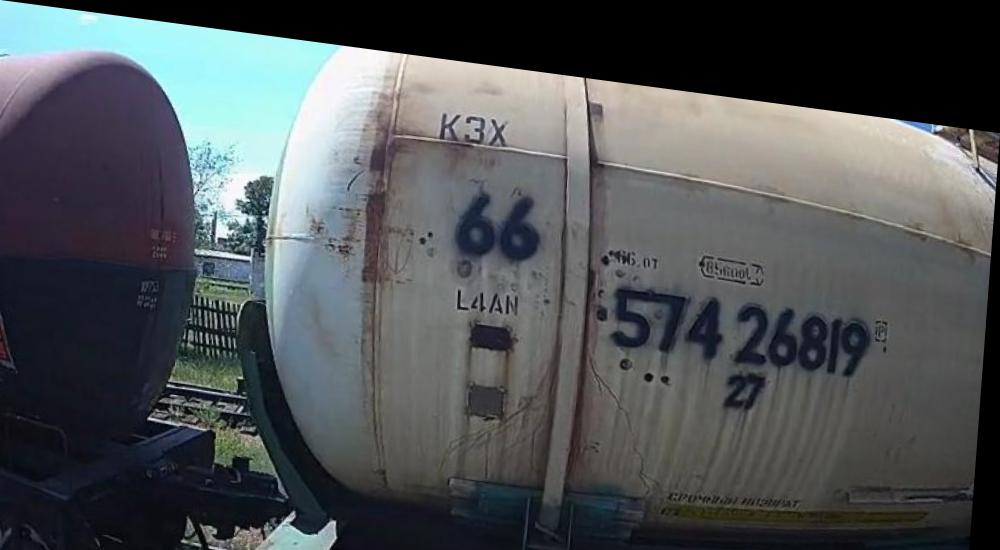Wagon-number: (612, 264, 877, 359)
